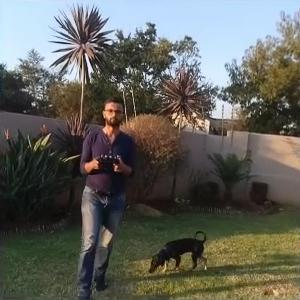follow: (74, 92, 136, 298)
null: (145, 226, 210, 278)
